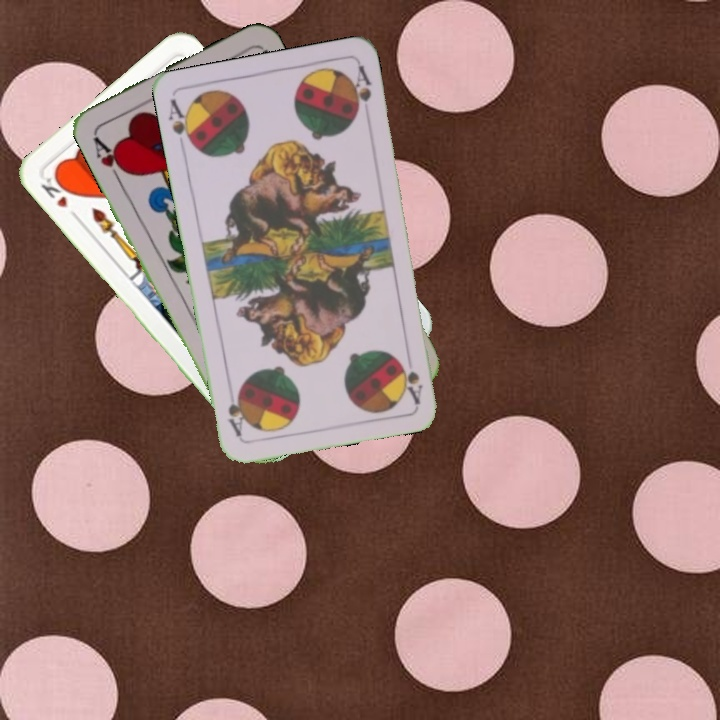HA: (89, 130, 131, 184)
HK: (36, 168, 75, 211)
SA: (164, 95, 198, 152), (401, 347, 426, 406)
